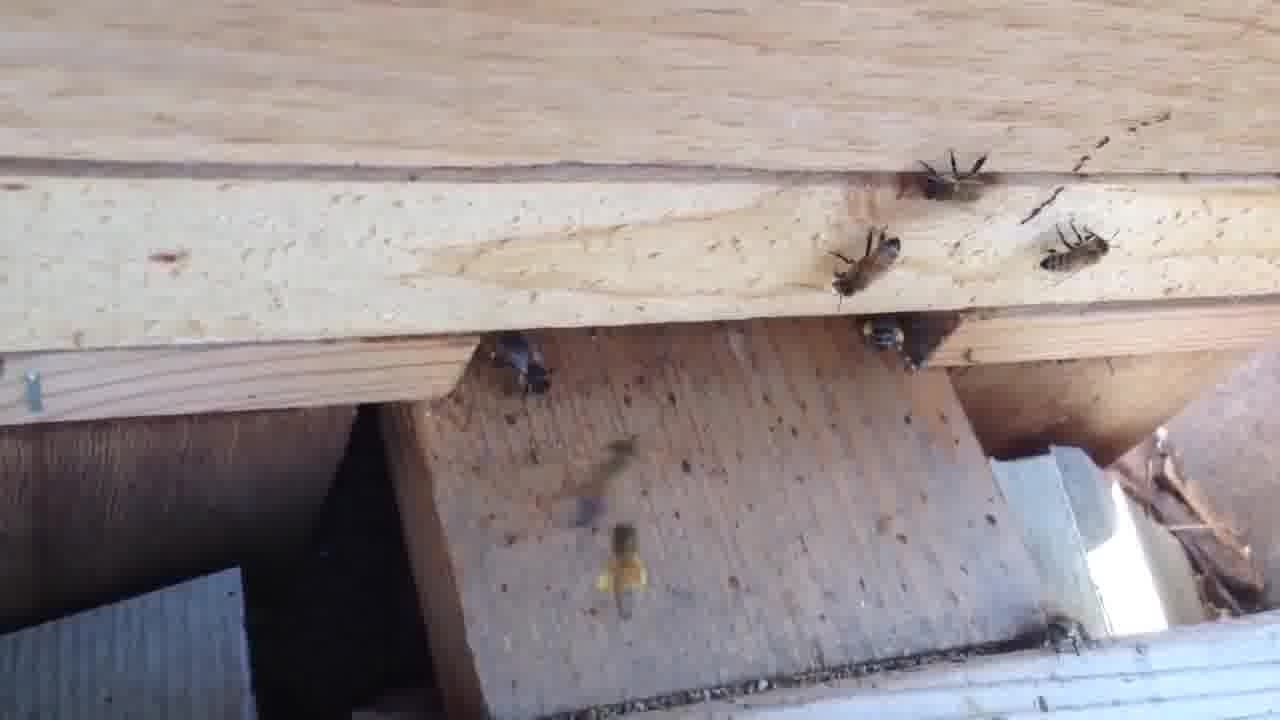pollen: (598, 520, 653, 617)
